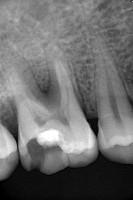Endo-Periodontal Lesion: (29, 61, 49, 91)
